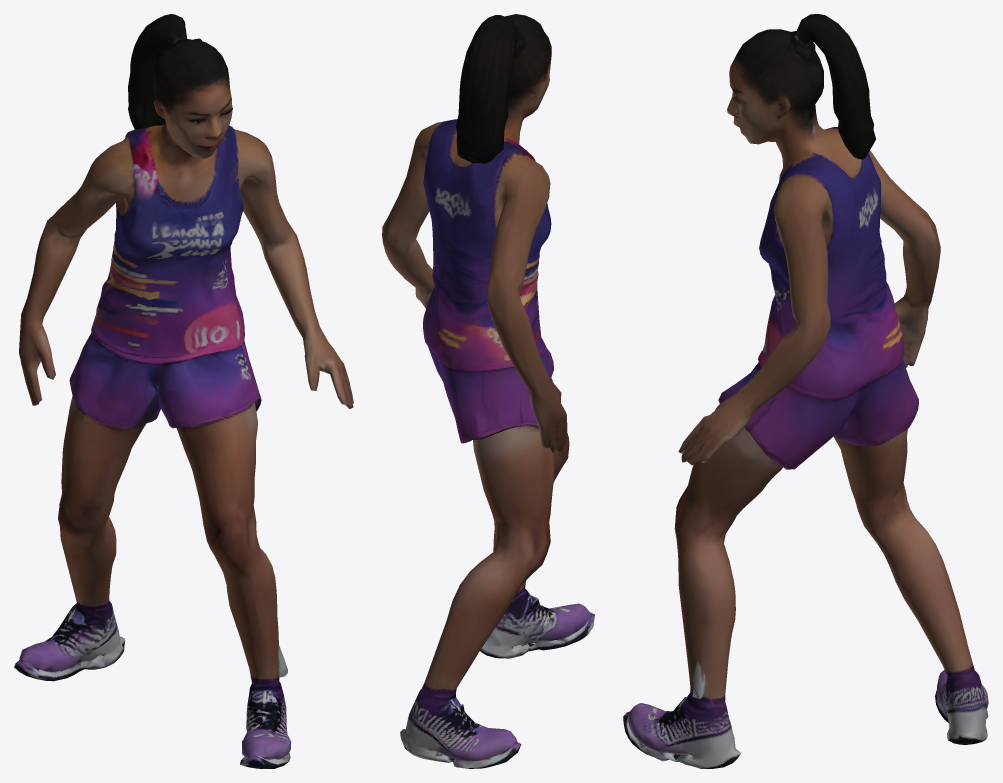
The model's file is 10_3_idle.glb.
3 renders of one model, left to right at view 1: azimuth 30°, elevation 25°; view 2: azimuth 150°, elevation 25°; view 3: azimuth 270°, elevation 25°, orthographic. The views are drawn at different scales.
Parts seen in each view (by area): view 1: Idle; view 2: Idle; view 3: Idle.
Part boxes in pixels (x1,y1,x2,y2): Idle: (14, 14, 353, 768); Idle: (382, 14, 594, 768); Idle: (623, 14, 988, 768).
Bounding box in the file's own units: 33.87 × 96.23 × 43.99.
1 material, 1 textured.
